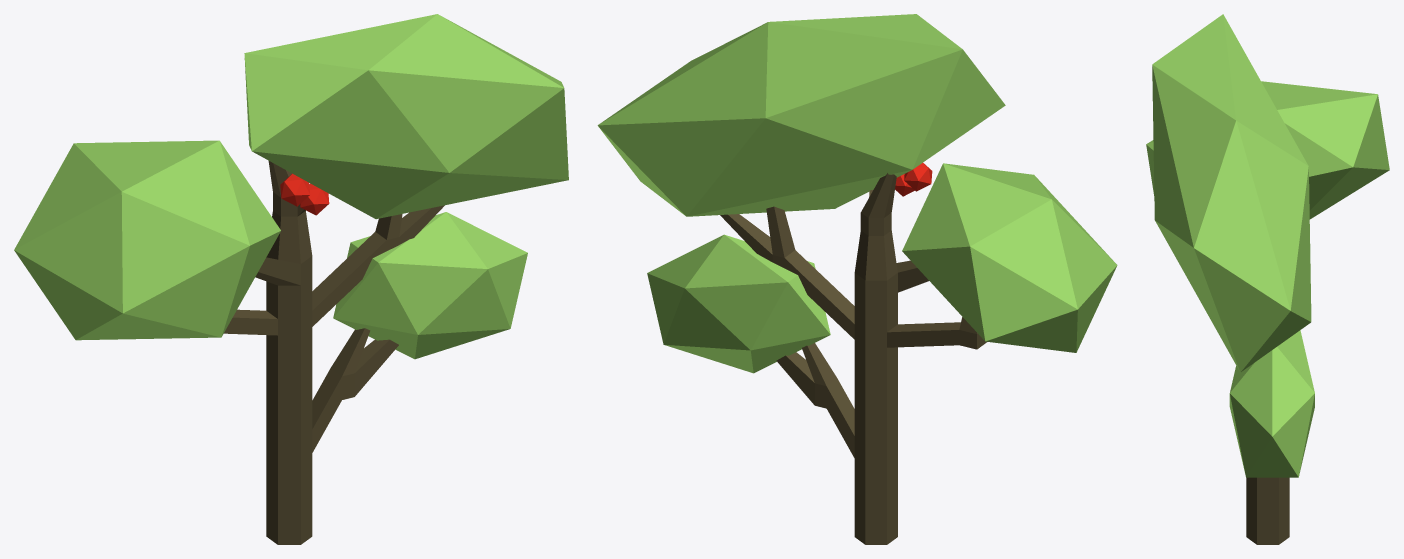
File: アセロラ.fbx
3 renders of one model, left to right at view 1: azimuth 30°, elevation 25°; view 2: azimuth 150°, elevation 25°; view 3: azimuth 270°, elevation 25°, orthographic. The views are drawn at different scales.
Visible parts, largest first — view 1: ICO球.001, ICO球.002, 円柱, ICO球.004, ICO球.007; view 2: ICO球.001, ICO球.002, 円柱, ICO球.004; view 3: ICO球.001, ICO球.002, ICO球.004, 円柱.
Part boxes in pixels (bbox=[...]): ICO球.001: bbox=[244, 14, 568, 219]; ICO球.002: bbox=[14, 140, 280, 340]; 円柱: bbox=[224, 161, 444, 544]; ICO球.004: bbox=[333, 212, 527, 359]; ICO球.007: bbox=[280, 173, 310, 206]; ICO球.001: bbox=[597, 14, 1005, 216]; ICO球.002: bbox=[902, 163, 1117, 352]; 円柱: bbox=[720, 173, 986, 544]; ICO球.004: bbox=[647, 234, 830, 373]; ICO球.001: bbox=[1152, 14, 1311, 372]; ICO球.002: bbox=[1146, 81, 1389, 219]; ICO球.004: bbox=[1229, 330, 1314, 477]; 円柱: bbox=[1246, 477, 1289, 544].
Bounding box in the file's own units: 532 × 497 × 224.
